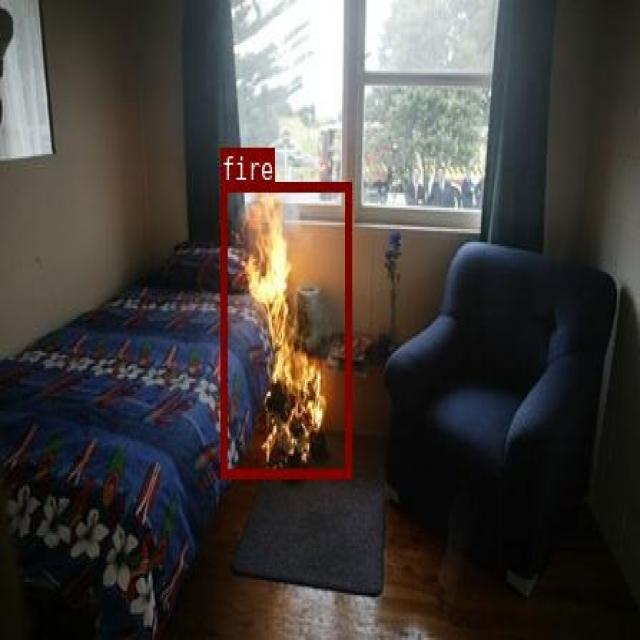fire: (220, 181, 350, 476)
